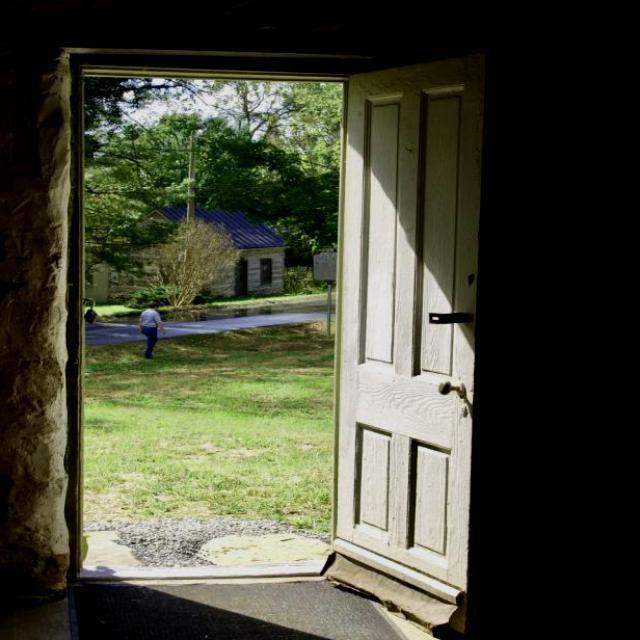door: (329, 53, 483, 608)
